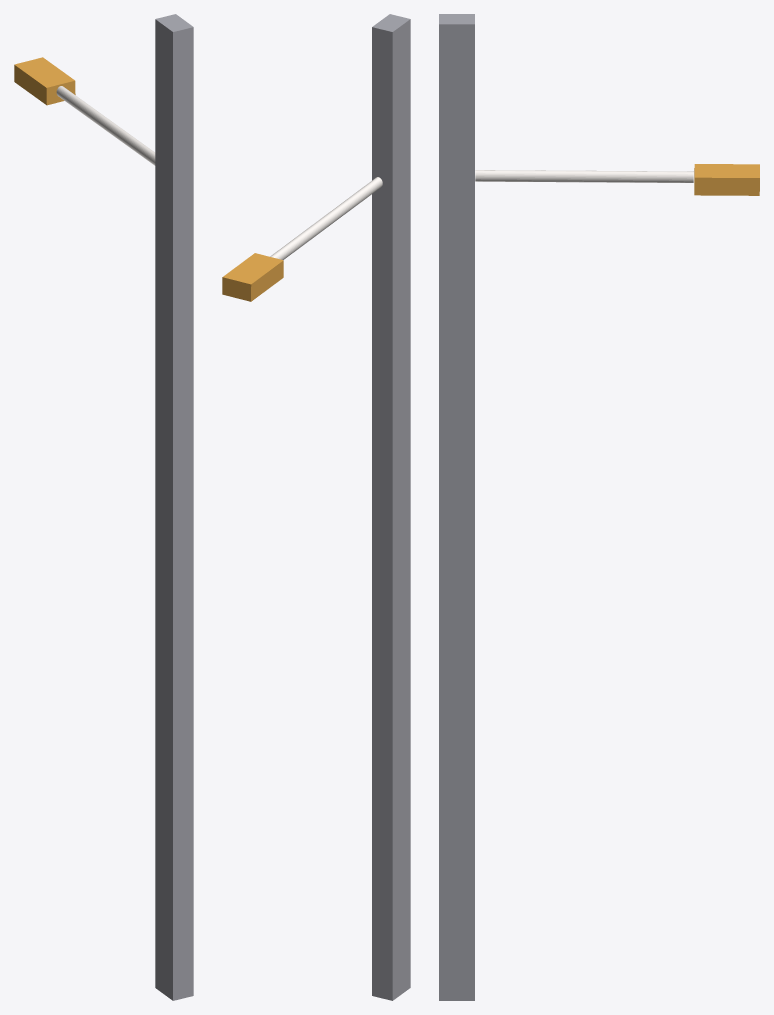
Rendered from Poste 1 Luminaria Y.dae.
3 views of the same model, side by side, from view 1: azimuth 30°, elevation 25°; view 2: azimuth 150°, elevation 25°; view 3: azimuth 270°, elevation 25° (orthographic).
Visible parts, largest first — view 1: Cube, Cubo, Cilindro; view 2: Cube, Cubo, Cilindro; view 3: Cube, Cilindro, Cubo.
Part boxes in pixels (x1=…): Cube: x1=155, y1=14, x2=193, y2=1000; Cubo: x1=14, y1=57, x2=75, y2=105; Cilindro: x1=56, y1=86, x2=155, y2=165; Cube: x1=372, y1=14, x2=410, y2=1000; Cubo: x1=222, y1=253, x2=283, y2=301; Cilindro: x1=270, y1=177, x2=382, y2=259; Cube: x1=439, y1=14, x2=474, y2=1000; Cilindro: x1=475, y1=170, x2=693, y2=182; Cubo: x1=694, y1=164, x2=759, y2=195.
Size of the model in its own units: 0.5635 by 5.33 by 17.91.
